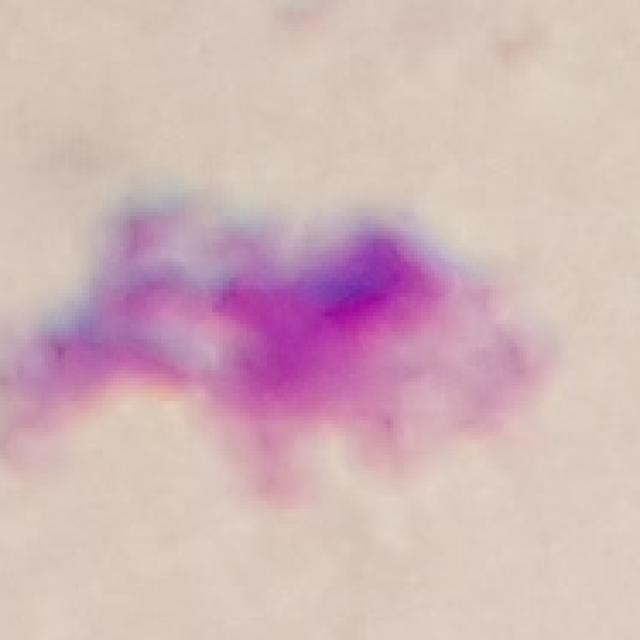non-sperm: (34, 216, 481, 439)
